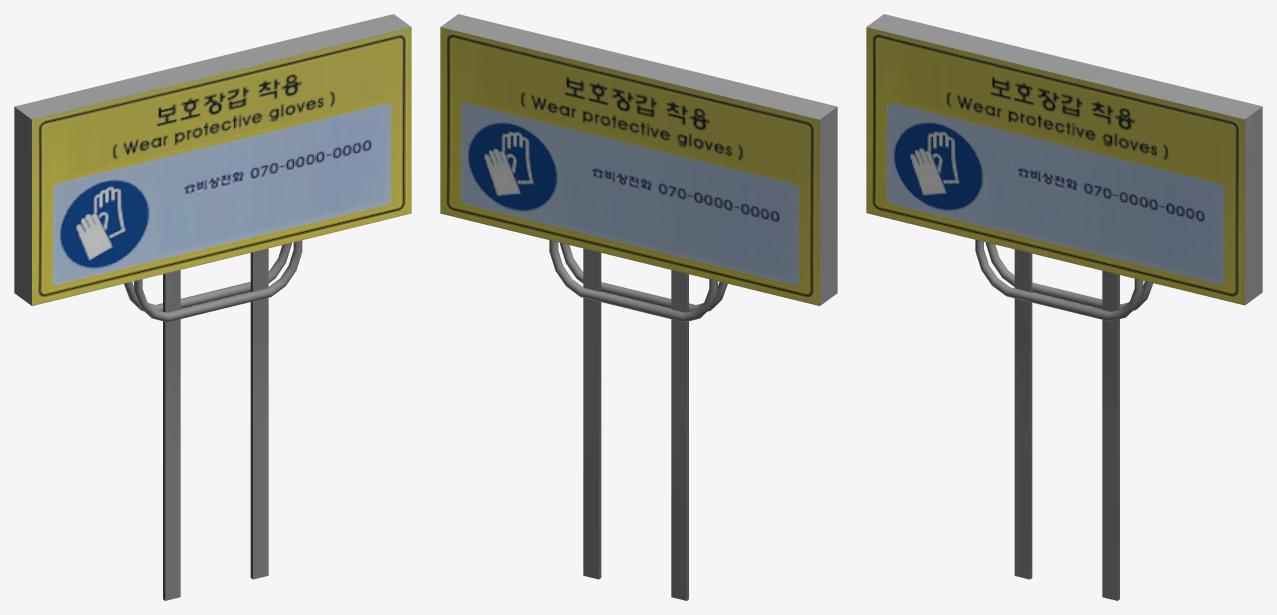
The model's file is cautionGloves.gltf.
The picture shows the model from 3 angles, left to right: view 1: azimuth 30°, elevation 25°; view 2: azimuth 150°, elevation 25°; view 3: azimuth 330°, elevation 25°; orthographic projection.
Parts seen in each view (by area): view 1: gloves; view 2: gloves; view 3: gloves.
Part boxes in pixels (x1,y1,x2,y2): gloves: (14, 14, 411, 600); gloves: (440, 14, 837, 600); gloves: (866, 14, 1262, 600).
Size of the model in its own units: 21.53 by 28.25 by 1.76.
1 material, 1 textured.
